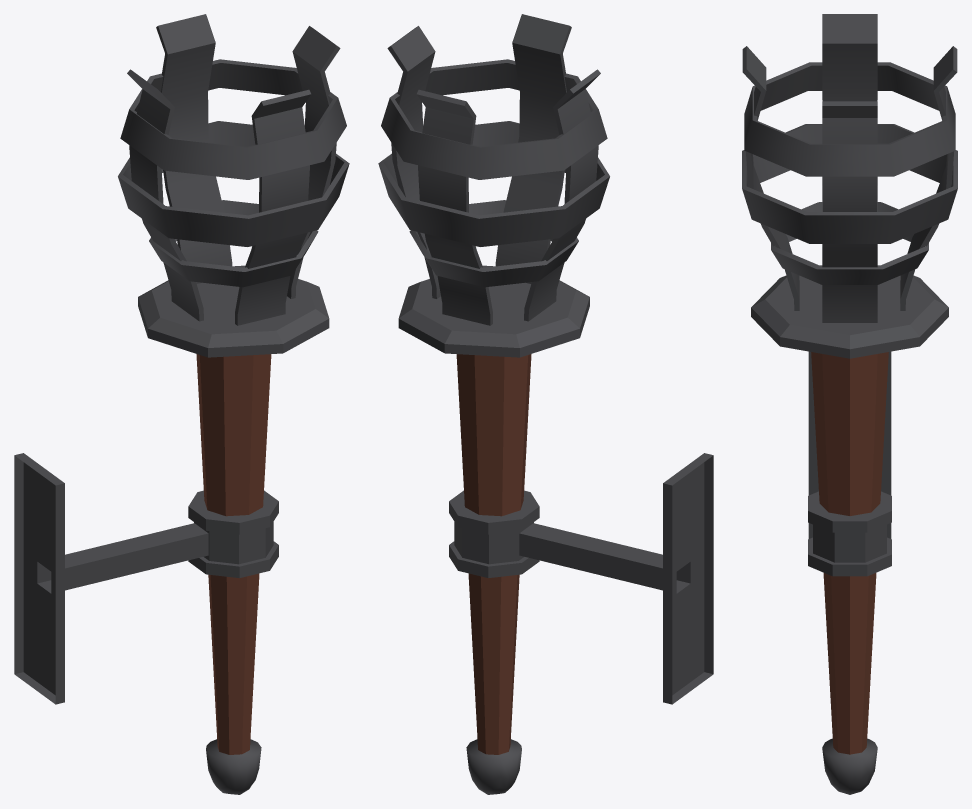
Rendered from SM_ModularKit_Torch.fbx.
3 renders of one model, left to right at view 1: azimuth 30°, elevation 25°; view 2: azimuth 150°, elevation 25°; view 3: azimuth 270°, elevation 25°, orthographic.
Visible parts, largest first — view 1: Torch; view 2: Torch; view 3: Torch.
Boxes of the visible parts, x1,y1,x2,y2 form: Torch: (14,14,349,794); Torch: (378,14,713,794); Torch: (742,14,957,794).
Bounding box in the file's own units: 46.83 × 113 × 29.98.
